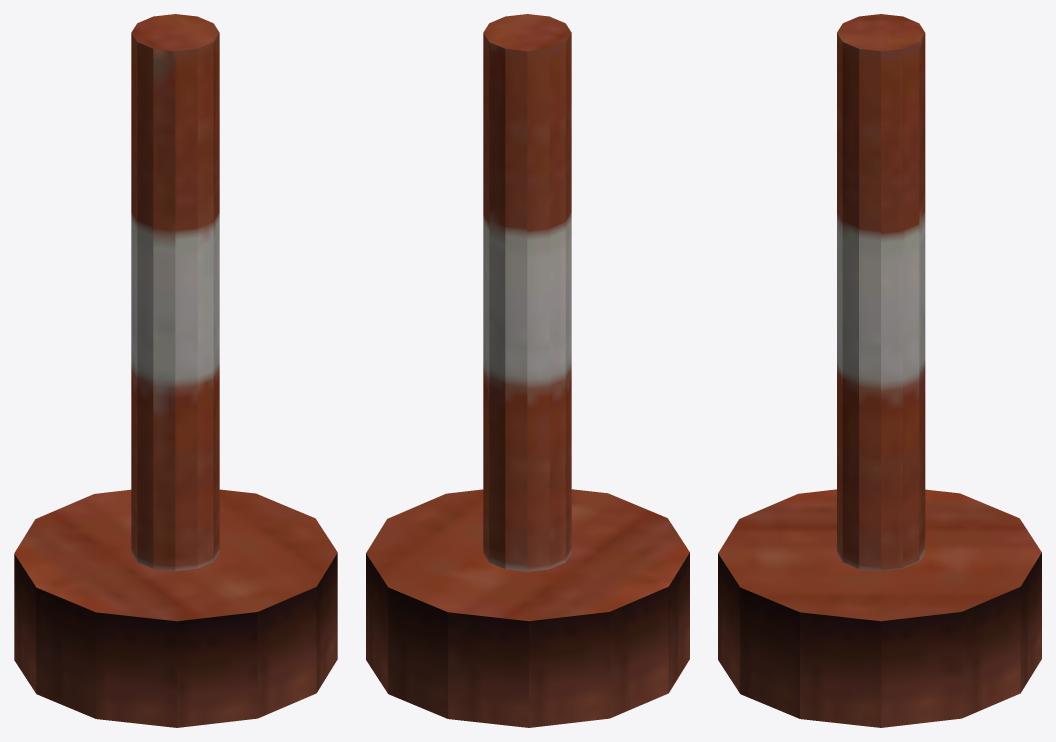
File: llmg_sticks_LOD0.gltf
3 views of the same model, side by side, from view 1: azimuth 30°, elevation 25°; view 2: azimuth 150°, elevation 25°; view 3: azimuth 270°, elevation 25° (orthographic).
Parts seen in each view (by area): view 1: node1; view 2: node1; view 3: node1.
Boxes of the visible parts, x1=… form: node1: x1=14, y1=14, x2=337, y2=727; node1: x1=366, y1=14, x2=689, y2=727; node1: x1=718, y1=14, x2=1041, y2=727.
Size of the model in its own units: 0.22 by 0.47 by 0.22.
